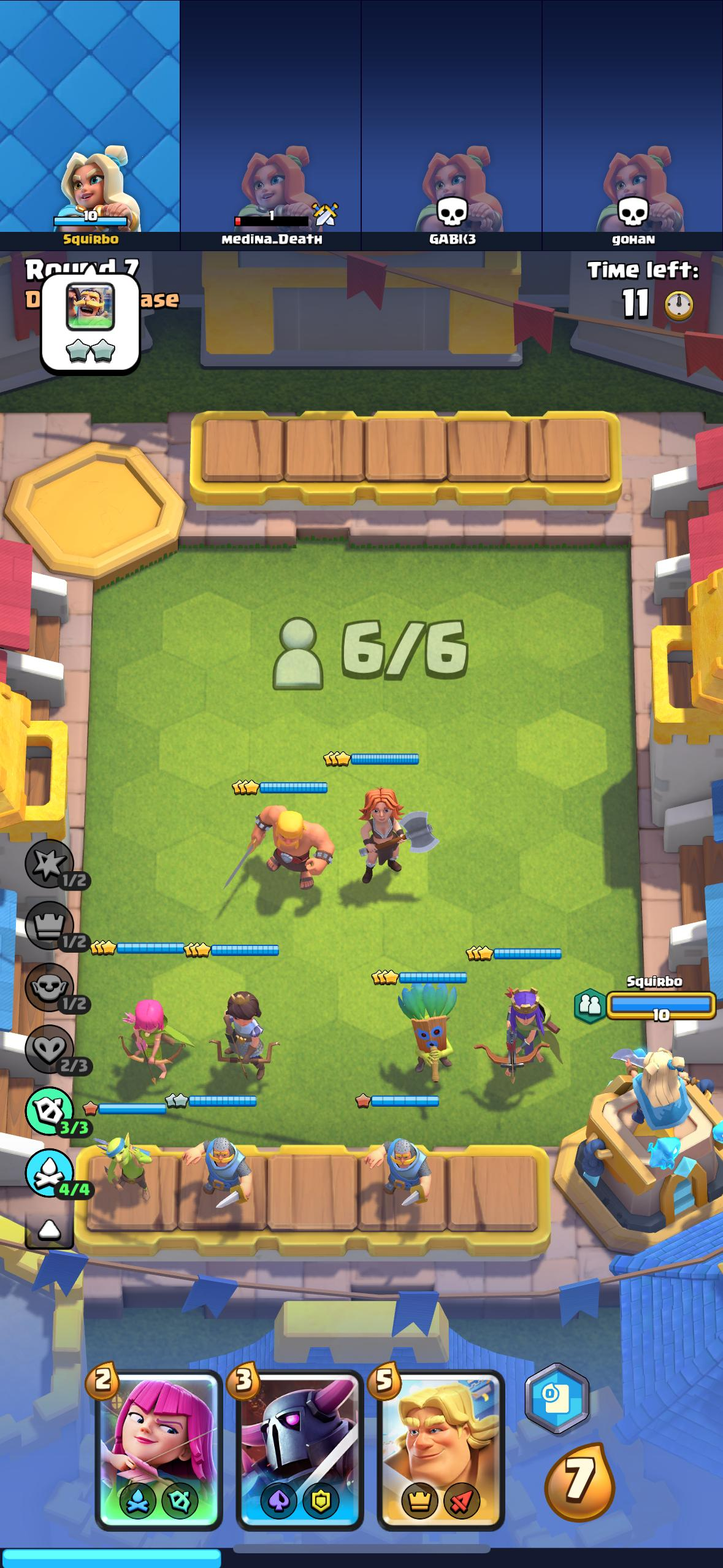archer: (115, 992, 184, 1071)
barbarian: (248, 801, 331, 899)
dart: (389, 986, 461, 1077)
hand-archer: (95, 1375, 222, 1527)
hand-golden: (377, 1374, 502, 1524)
hand-pekka: (235, 1374, 361, 1527)
knight: (179, 1124, 257, 1215), (367, 1130, 433, 1210)
princess: (214, 987, 277, 1077)
queen: (479, 985, 560, 1075)
spear: (96, 1136, 155, 1196)
valkyrie: (353, 780, 434, 883)
